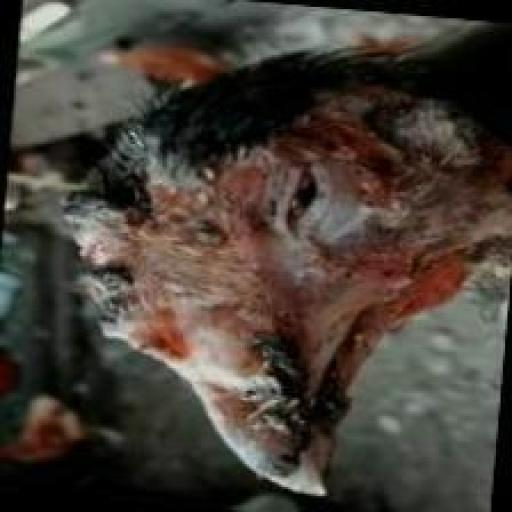disease: (40, 151, 446, 493)
